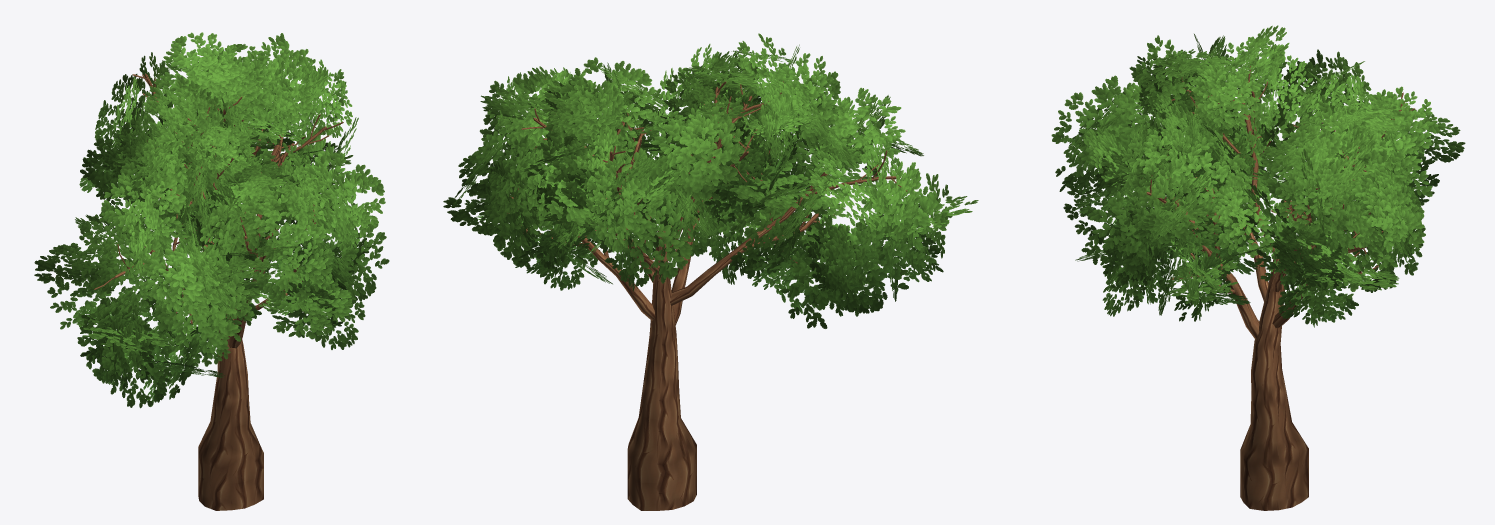
Rendered from ct_oak_0.gltf.
3 renders of one model, left to right at view 1: azimuth 30°, elevation 25°; view 2: azimuth 150°, elevation 25°; view 3: azimuth 270°, elevation 25°, orthographic. The views are drawn at different scales.
Parts seen in each view (by area): view 1: ct_oak_0_leaves_LOD0, ct_oak_0_trunk_LOD0; view 2: ct_oak_0_leaves_LOD0, ct_oak_0_trunk_LOD0; view 3: ct_oak_0_leaves_LOD0, ct_oak_0_trunk_LOD0.
Boxes of the visible parts, box(x1,y1,x2,y2) form: ct_oak_0_leaves_LOD0: box(34, 32, 389, 408); ct_oak_0_trunk_LOD0: box(94, 73, 343, 510); ct_oak_0_leaves_LOD0: box(443, 33, 978, 328); ct_oak_0_trunk_LOD0: box(507, 81, 909, 510); ct_oak_0_leaves_LOD0: box(1051, 25, 1465, 327); ct_oak_0_trunk_LOD0: box(1142, 66, 1414, 510).
Size of what is drawn, in the model's own units: 8.93 by 8.97 by 8.2.
2 materials, 2 textured.
